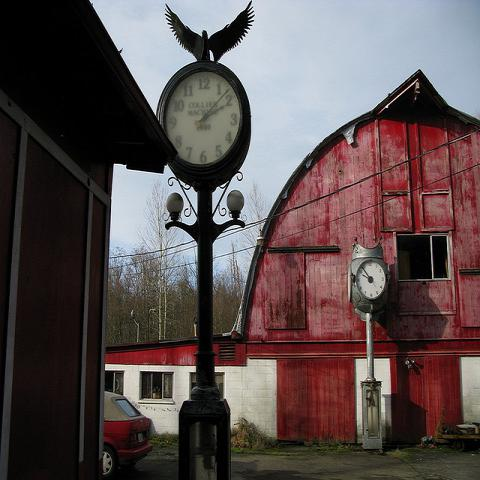car: (100, 391, 153, 475)
